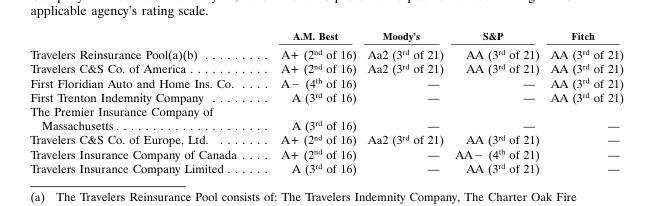table: (29, 28, 622, 174)
table column: (29, 28, 257, 174), (257, 28, 361, 174), (448, 28, 544, 174), (361, 28, 448, 174), (544, 28, 622, 174)
table column header: (29, 28, 622, 44)
table row: (29, 103, 622, 132), (29, 44, 622, 61), (29, 28, 622, 44), (29, 61, 622, 75), (29, 75, 622, 89), (29, 89, 622, 103), (29, 132, 622, 146), (29, 146, 622, 160), (29, 160, 622, 174)
